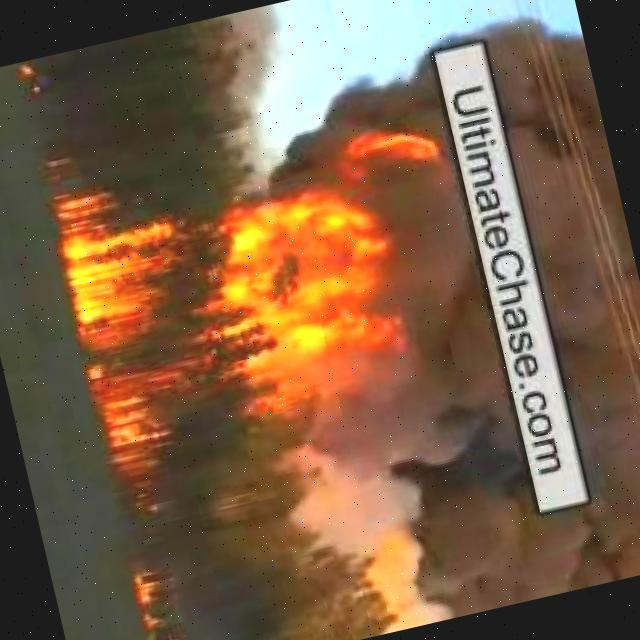fire: (206, 119, 490, 402), (48, 174, 237, 497), (127, 554, 186, 640)
